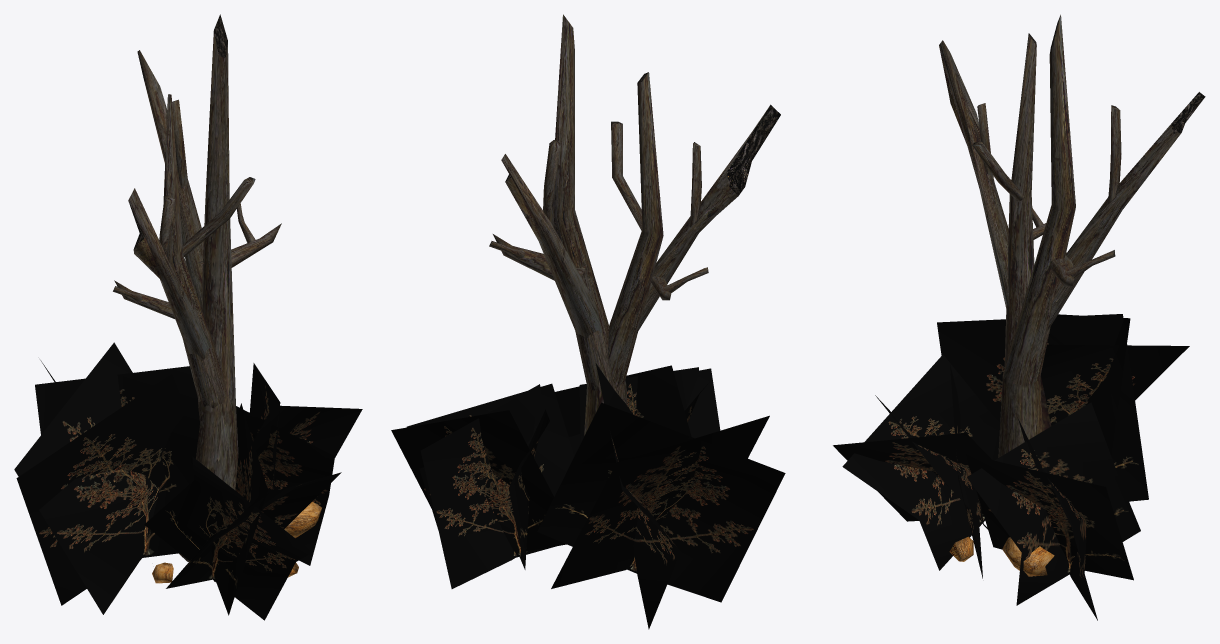
Rendered from deadtree3.dae.
The picture shows the model from 3 angles, left to right: view 1: azimuth 30°, elevation 25°; view 2: azimuth 150°, elevation 25°; view 3: azimuth 270°, elevation 25°; orthographic projection. The views are drawn at different scales.
Parts seen in each view (by area): view 1: Circle.001; view 2: Circle.001; view 3: Circle.001.
Part boxes in pixels (x1=…): Circle.001: x1=14, y1=14, x2=362, y2=620; Circle.001: x1=391, y1=14, x2=785, y2=629; Circle.001: x1=833, y1=14, x2=1205, y2=620.
Bounding box in the file's own units: 4.43 × 3.79 × 6.34.
Materials: 2 (2 with a texture image).
